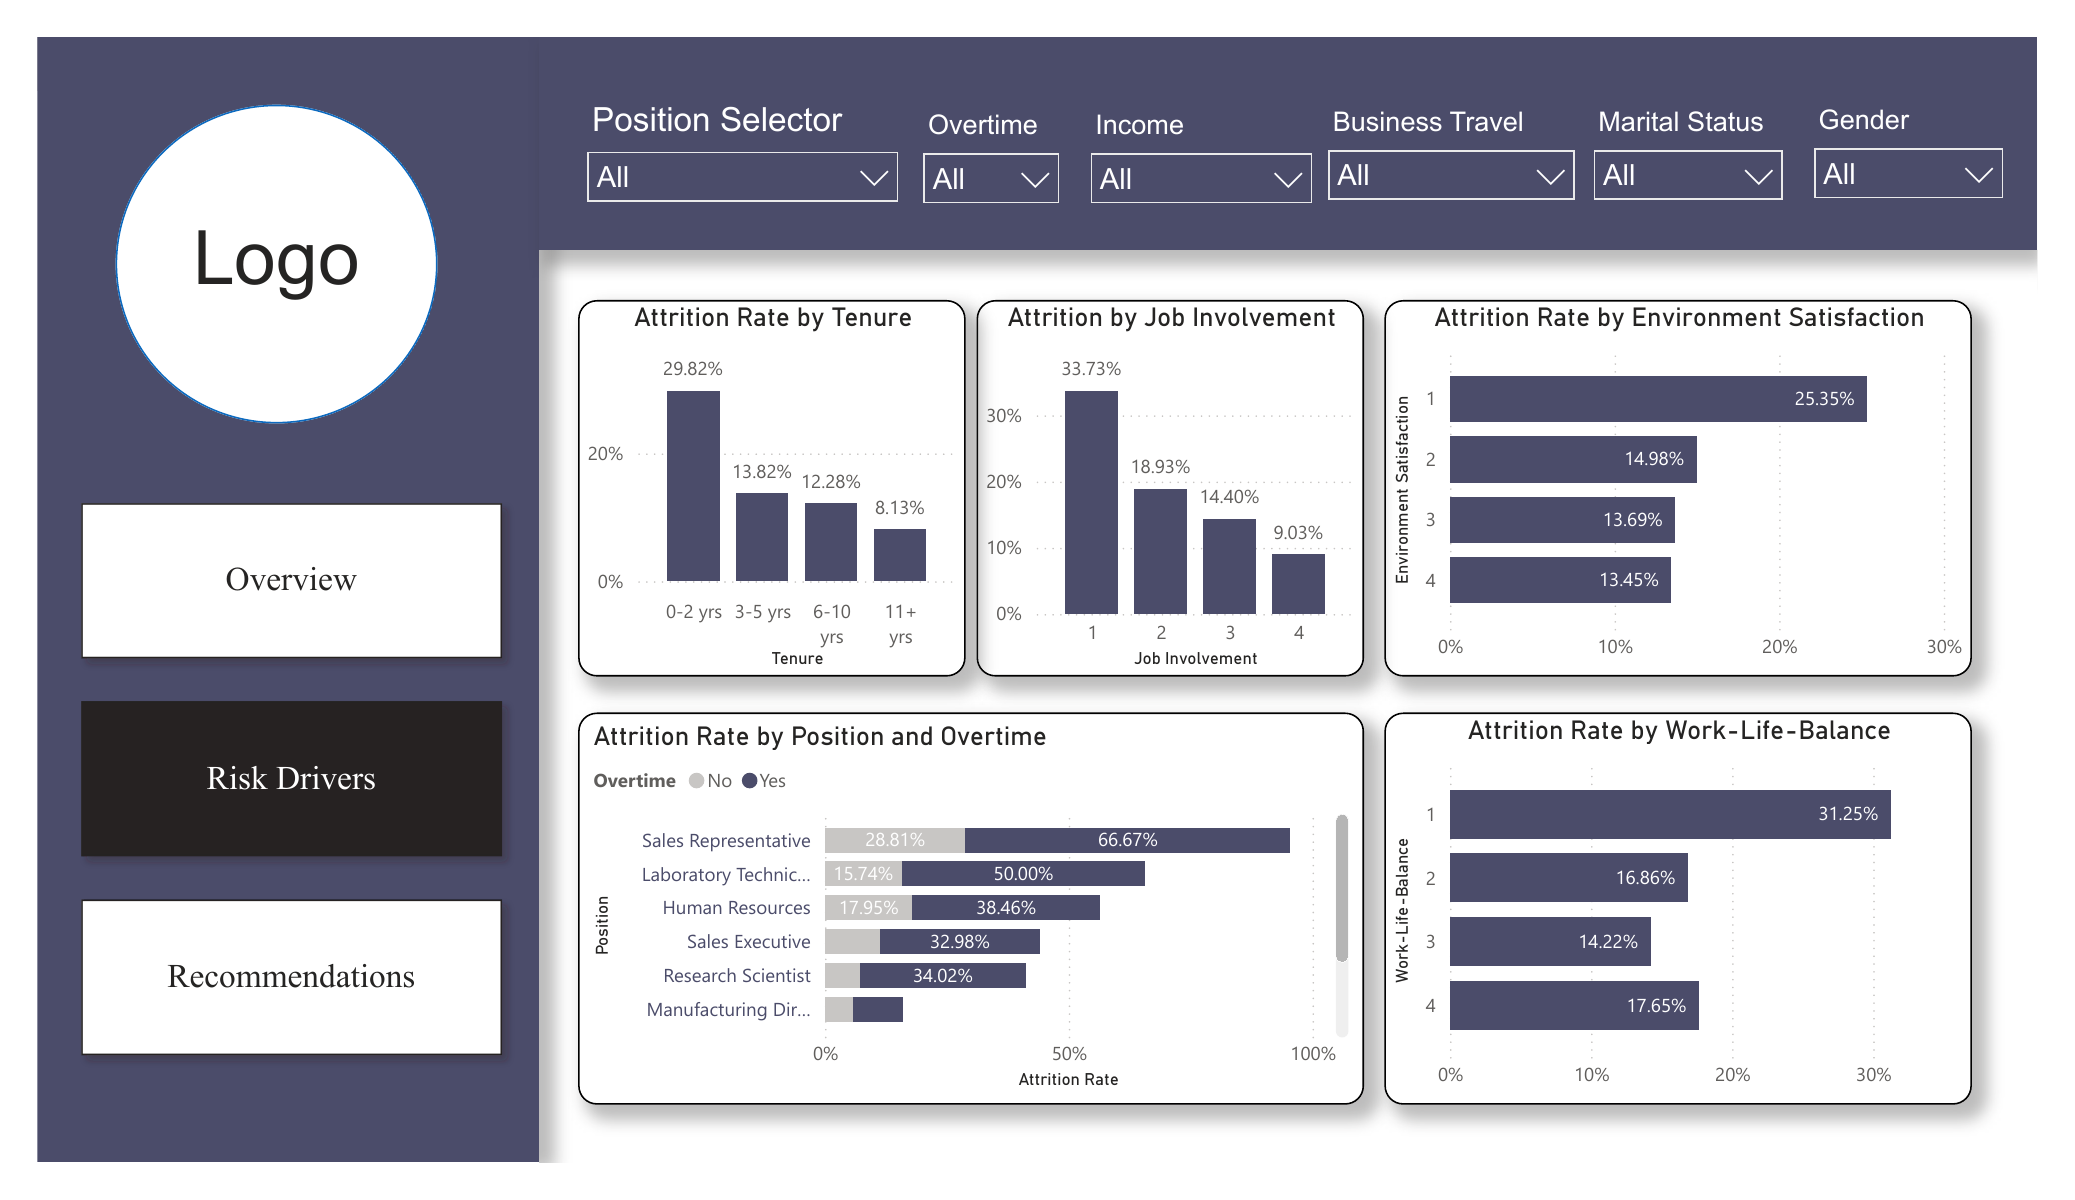

The dashboard page shown, as its layout file describes it:
{"tool":"powerbi","page":{"name":"Risk Drivers","canvas":[1280,720],"ordinal":1},"visuals":[{"type":"shape","box":[0,0,321,720],"z":0},{"type":"shape","box":[321,0,959,136],"z":1000},{"type":"shape","box":[50,43,205.8,203.8],"z":2000},{"type":"pageNavigator","box":[19,289,287,371],"z":4000},{"type":"barChart","fields":{"Category":["Fact_Attrition.EnvironmentSatisfaction"],"Y":["Fact_Attrition.Attrition Rate"]},"box":[862,168,376,241],"z":5000},{"type":"barChart","fields":{"Category":["Dim_JobRole.JobRole"],"Series":["Dim_Demographics.OverTime"],"Y":["Fact_Attrition.Attrition Rate"]},"box":[346.3,431.9,502.9,250.9],"z":6000},{"type":"columnChart","fields":{"Category":["Fact_Attrition.JobInvolvement"],"Y":["Fact_Attrition.Attrition Rate"]},"box":[601,168,248,241],"z":7000},{"type":"barChart","fields":{"Y":["Fact_Attrition.Attrition Rate"],"Category":["Fact_Attrition.WorkLifeBalance"]},"box":[862,432,376,251],"z":8000},{"type":"columnChart","fields":{"Category":["Fact_Attrition.Tenure Grouping"],"Y":["Fact_Attrition.Attrition Rate"]},"box":[346.3,168.3,248,241.2],"z":9000},{"type":"slicer","fields":{"Values":["Dim_JobRole.JobRole"]},"box":[342.4,36,218.8,72.9],"z":10000},{"type":"slicer","fields":{"Values":["Fact_Attrition.IncomeRange"]},"box":[664.3,40.9,161.5,68.1],"z":11000},{"type":"slicer","fields":{"Values":["Dim_Demographics.BusinessTravel"]},"box":[816,38.9,178,68.1],"z":12000},{"type":"slicer","fields":{"Values":["Dim_Demographics.MaritalStatus"]},"box":[986.3,38.9,141,68.1],"z":13000},{"type":"slicer","fields":{"Values":["Dim_Demographics.Gender"]},"box":[1127.3,37.9,141,74.9],"z":14000},{"type":"slicer","fields":{"Values":["Dim_Demographics.OverTime"]},"box":[557.3,40.9,107,68.1],"z":15000},{"type":"textbox","box":[81.7,108.9,142,71],"z":15001}]}

Visuals, with their boxes in screenshot pixels (x1, y1, x2, y2):
shape: 32:32:527:1143
shape: 527:32:2006:242
shape: 110:99:427:413
pageNavigator: 62:478:504:1050
barChart - Fact_Attrition.EnvironmentSatisfaction x Fact_Attrition.Attrition Rate: 1362:291:1941:663
barChart - Dim_JobRole.JobRole x Dim_Demographics.OverTime: 566:698:1342:1085
columnChart - Fact_Attrition.JobInvolvement x Fact_Attrition.Attrition Rate: 959:291:1342:663
barChart - Fact_Attrition.Attrition Rate x Fact_Attrition.WorkLifeBalance: 1362:699:1941:1086
columnChart - Fact_Attrition.Tenure Grouping x Fact_Attrition.Attrition Rate: 566:292:949:664
slicer - Dim_JobRole.JobRole: 560:88:898:200
slicer - Fact_Attrition.IncomeRange: 1057:95:1306:200
slicer - Dim_Demographics.BusinessTravel: 1291:92:1565:197
slicer - Dim_Demographics.MaritalStatus: 1553:92:1771:197
slicer - Dim_Demographics.Gender: 1771:91:1988:206
slicer - Dim_Demographics.OverTime: 892:95:1057:200
textbox: 158:200:377:310
